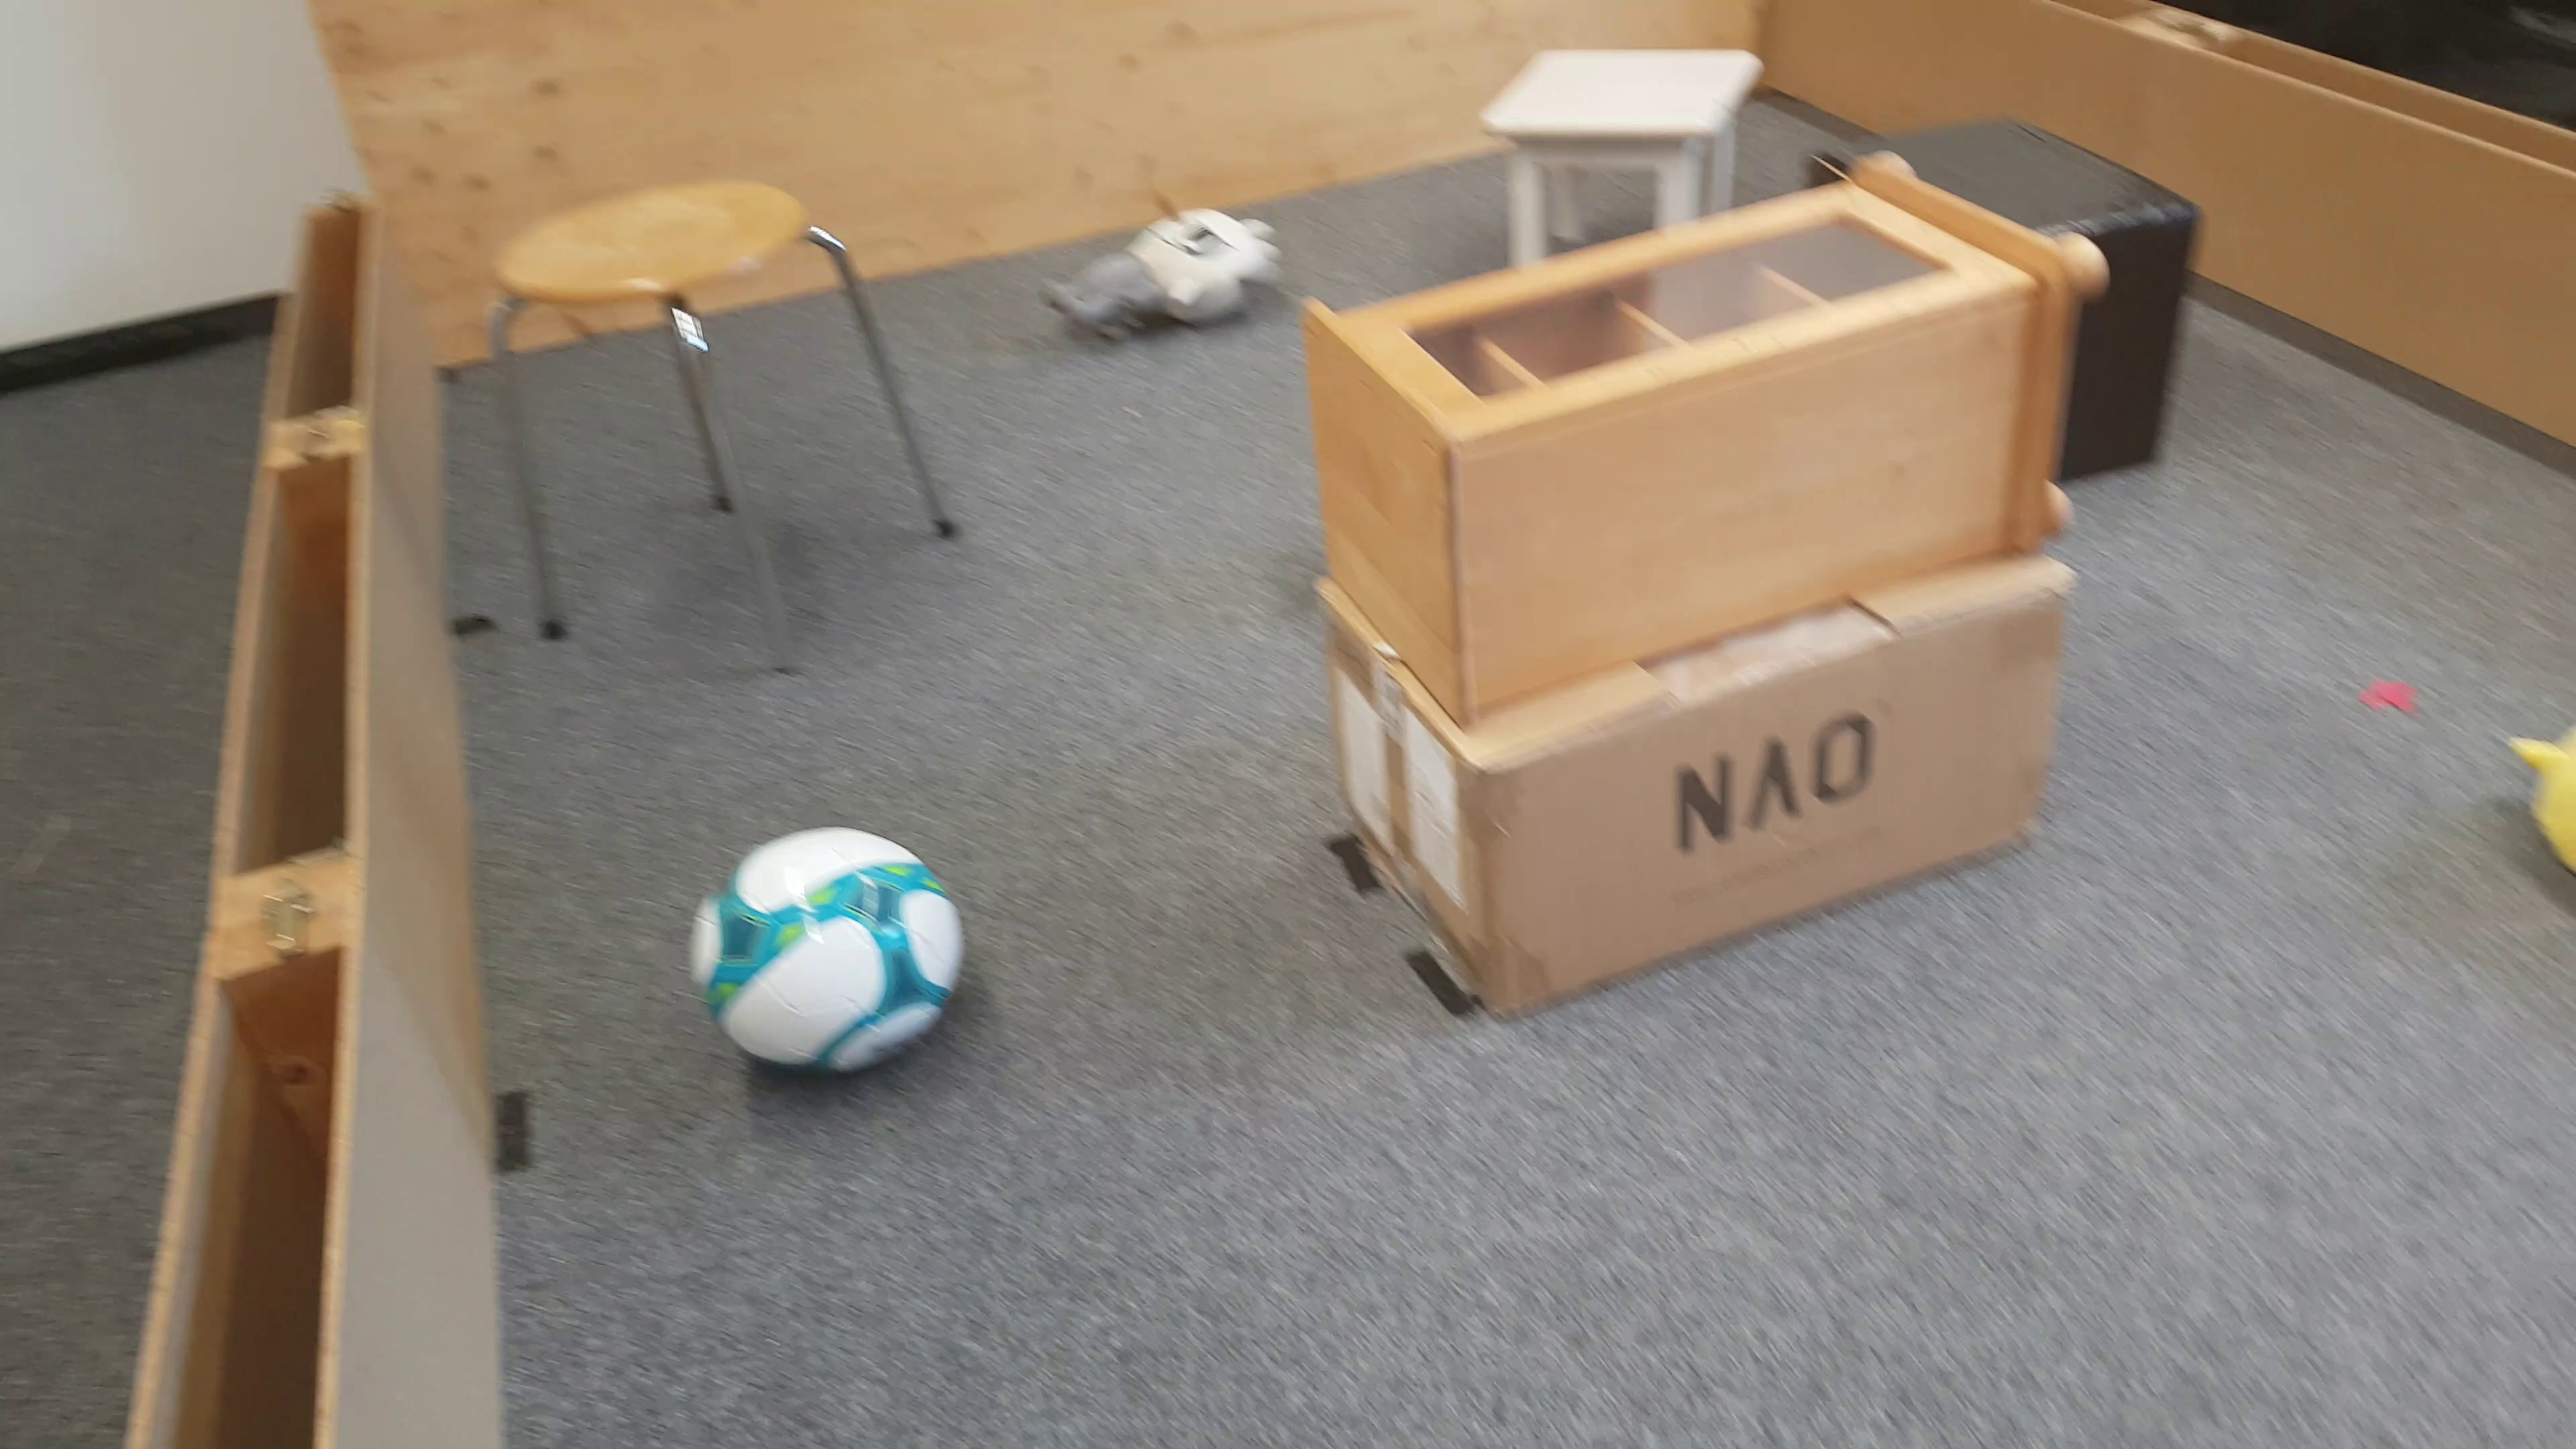grasp: (1035, 203, 1283, 347), (2511, 718, 2576, 885)
kick: (690, 824, 962, 1076)
push: (2111, 173, 2203, 472)
